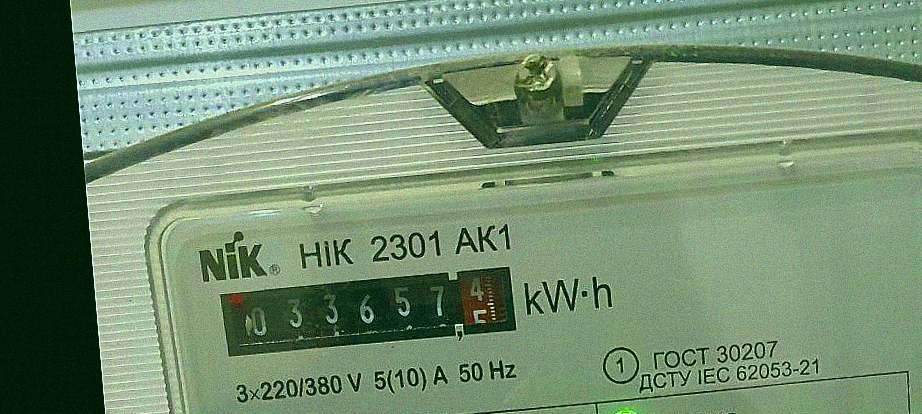0: (246, 302, 270, 340)
3: (284, 295, 306, 331), (319, 291, 340, 327)
4: (465, 273, 487, 305)
5: (389, 282, 414, 320)
6: (354, 291, 376, 327)
7: (426, 282, 447, 319)
screen: (206, 258, 525, 366)
